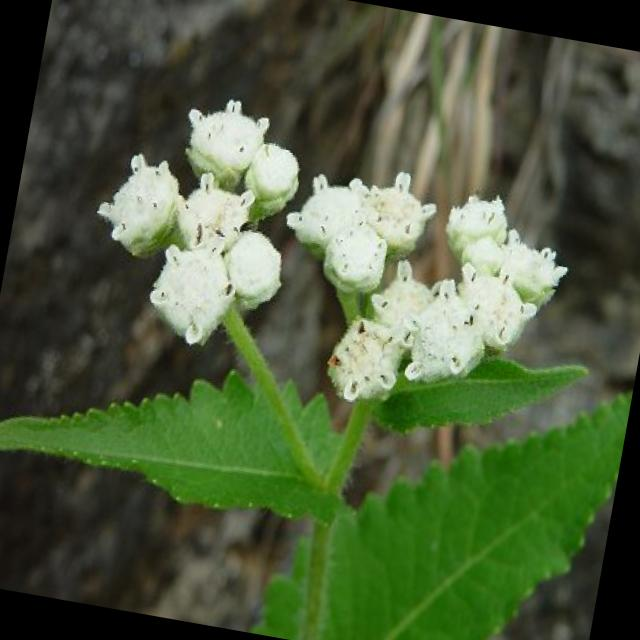Poisonous-Parthenium: (280, 150, 580, 430), (95, 84, 321, 356)
